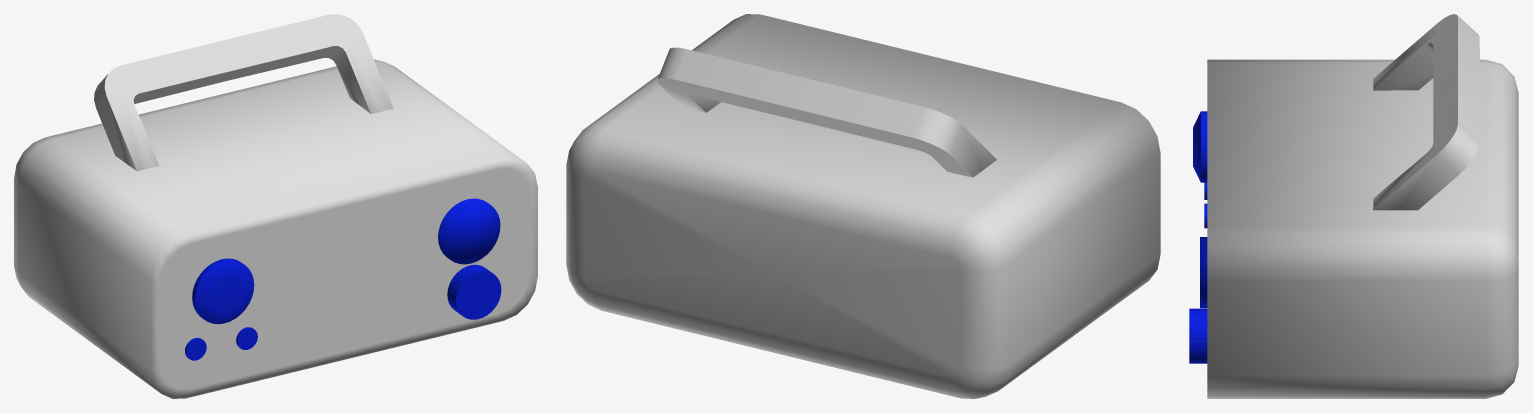
File: PH_RADIO.fbx
The picture shows the model from 3 angles, left to right: view 1: azimuth 30°, elevation 25°; view 2: azimuth 150°, elevation 25°; view 3: azimuth 270°, elevation 25°; orthographic projection. The views are drawn at different scales.
Parts seen in each view (by area): view 1: MAIN, VOLUME_BUTTON; view 2: MAIN; view 3: MAIN, VOLUME_BUTTON.
Part boxes in pixels (left/top/right/bottom): MAIN: left=14, top=14, right=537, bottom=398; VOLUME_BUTTON: left=447, top=264, right=501, bottom=319; MAIN: left=566, top=14, right=1160, bottom=398; MAIN: left=1193, top=14, right=1518, bottom=398; VOLUME_BUTTON: left=1189, top=308, right=1207, bottom=363.
Size of the model in its own units: 30 by 17.22 by 21.17.
